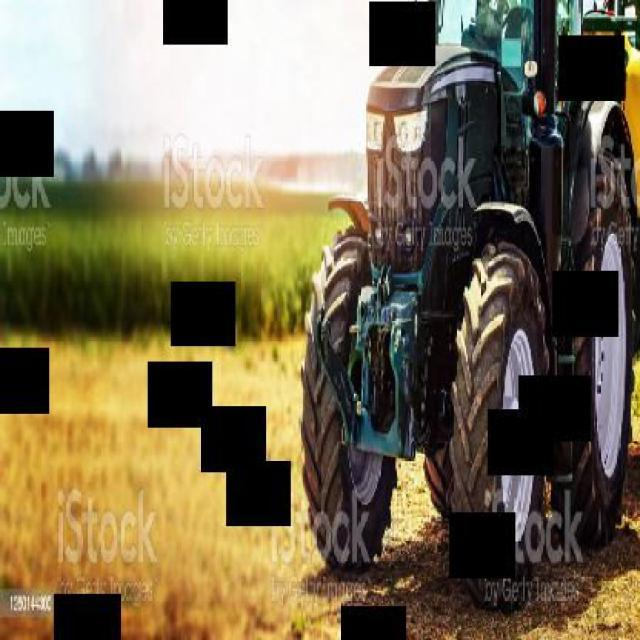Tratores - v5 YOLO V8L 2024-11-13: (301, 0, 640, 638)
